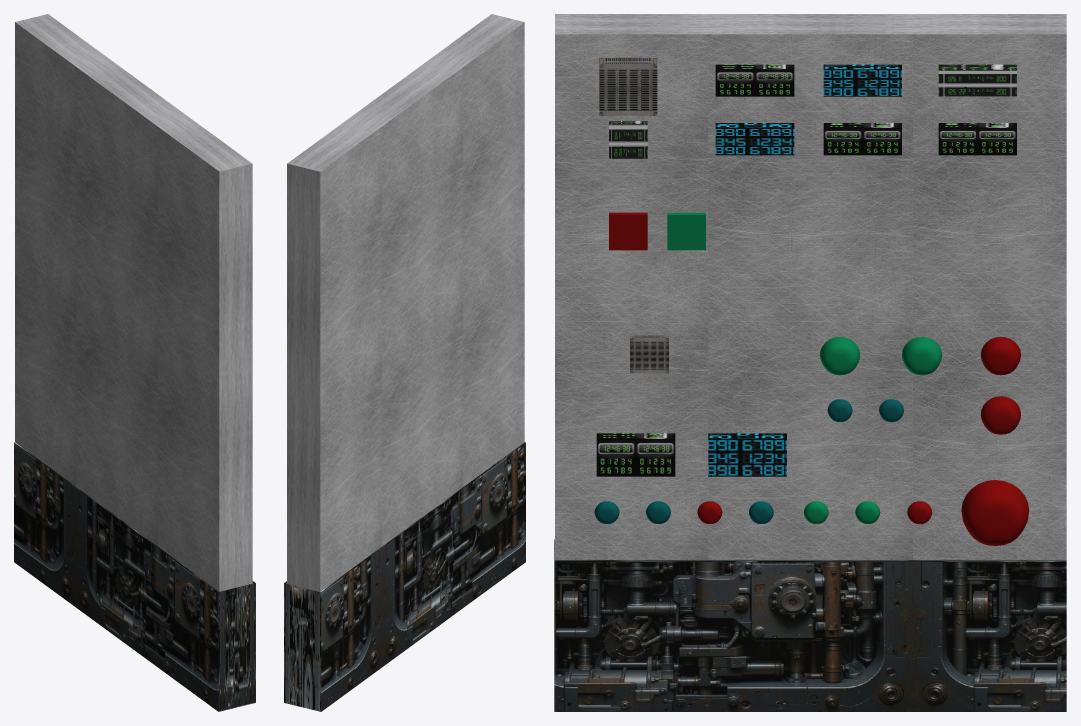
The model's file is Panel de Seguridad.fbx.
3 renders of one model, left to right at view 1: azimuth 30°, elevation 25°; view 2: azimuth 150°, elevation 25°; view 3: azimuth 270°, elevation 25°, orthographic. The views are drawn at different scales.
Visible parts, largest first — view 1: pCube1, pCube3; view 2: pCube1, pCube3; view 3: pCube1, pCube3, pasted__pasted__pCube2 (×3), pasted__pCube2 (×3), pasted__pasted__pasted__pCube2 (×2), pasted__pasted__pasted__pasted__pCube2 (×2), pasted__pasted__pasted__pasted__pCylinder1, pCube2, pasted__pasted__pasted__pasted__pasted__pCube2, pasted__pasted__pasted__pasted__pasted__pasted__pCube2, pCylinder1, pasted__pCylinder1 (+2 smaller).
Part boxes in pixels (x1,y1,x2,y2): pCube1: [15, 14, 252, 591]; pCube3: [14, 442, 255, 711]; pCube1: [287, 14, 524, 591]; pCube3: [284, 442, 525, 711]; pCube1: [555, 14, 1066, 559]; pCube3: [554, 539, 1066, 711]; pasted__pasted__pCube2 (×3): [599, 57, 1016, 155]; pasted__pCube2 (×3): [715, 64, 1016, 155]; pasted__pasted__pasted__pCube2 (×2): [596, 121, 675, 476]; pasted__pasted__pasted__pasted__pCube2 (×2): [609, 212, 786, 476]; pasted__pasted__pasted__pasted__pCylinder1: [961, 480, 1029, 545]; pCube2: [823, 64, 901, 96]; pasted__pasted__pasted__pasted__pasted__pCube2: [667, 212, 705, 250]; pasted__pasted__pasted__pasted__pasted__pasted__pCube2: [630, 335, 668, 373]; pCylinder1: [820, 336, 860, 375]; pasted__pCylinder1: [902, 336, 942, 375].
Size of the model in its own units: 1.46 by 13.82 by 9.5.
9 materials, 6 textured.
